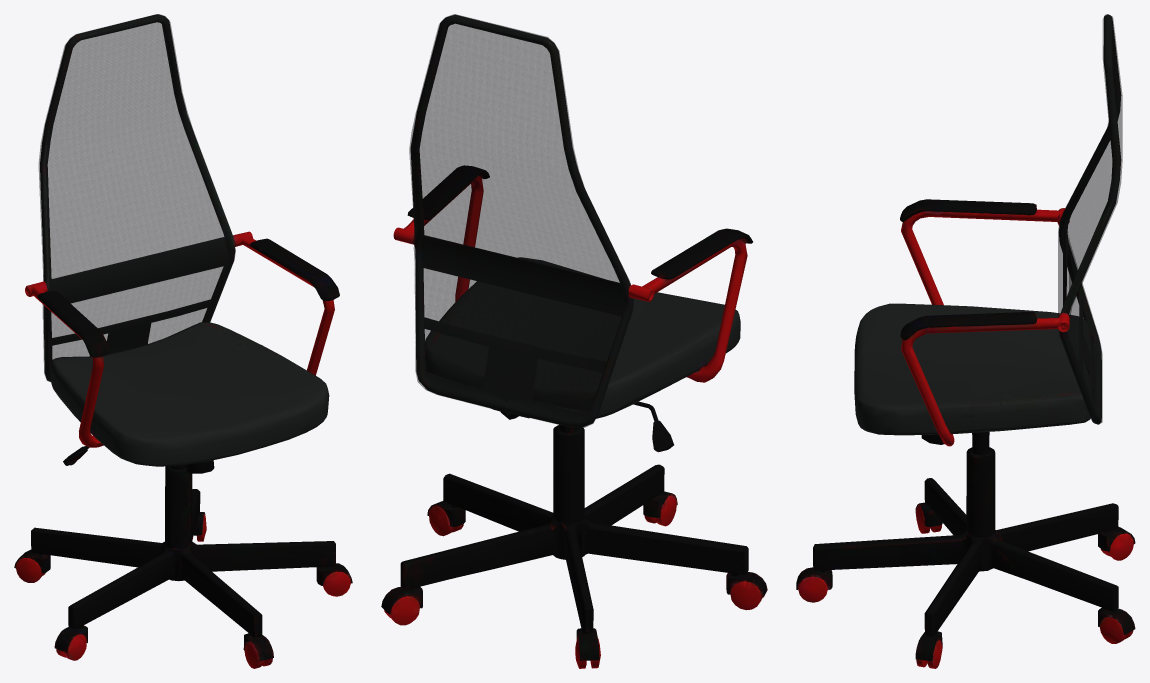
3 views of the same model, side by side, from view 1: azimuth 30°, elevation 25°; view 2: azimuth 150°, elevation 25°; view 3: azimuth 270°, elevation 25° (orthographic). The views are drawn at different scales.
Parts seen in each view (by area): view 1: ProcessedMeshNode; view 2: ProcessedMeshNode; view 3: ProcessedMeshNode.
Part boxes in pixels (left/top/right/bottom): ProcessedMeshNode: left=14, top=14, right=352, bottom=668; ProcessedMeshNode: left=381, top=14, right=767, bottom=668; ProcessedMeshNode: left=796, top=14, right=1135, bottom=668.
Size of the model in its own units: 0.6467 by 1.13 by 0.615.
Materials: 2 (2 with a texture image).
